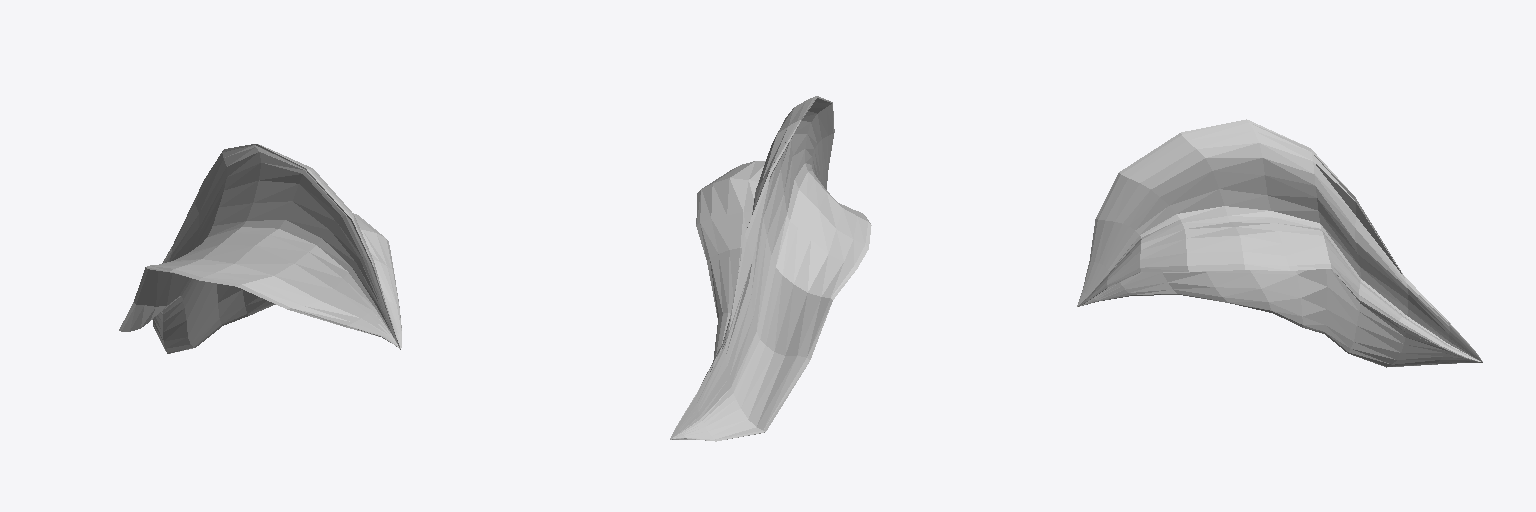
Rendered from Cateye4.obj.
3 views of the same model, side by side, from view 1: azimuth 30°, elevation 25°; view 2: azimuth 150°, elevation 25°; view 3: azimuth 270°, elevation 25° (orthographic).
Parts seen in each view (by area): view 1: CatEye4; view 2: CatEye4; view 3: CatEye4.
Boxes of the visible parts, box(x1,y1,x2,y2) form: CatEye4: box(119, 144, 401, 353); CatEye4: box(670, 96, 871, 441); CatEye4: box(1077, 119, 1482, 367).
Bounding box in the file's own units: 0.0064 × 0.009 × 0.0129.